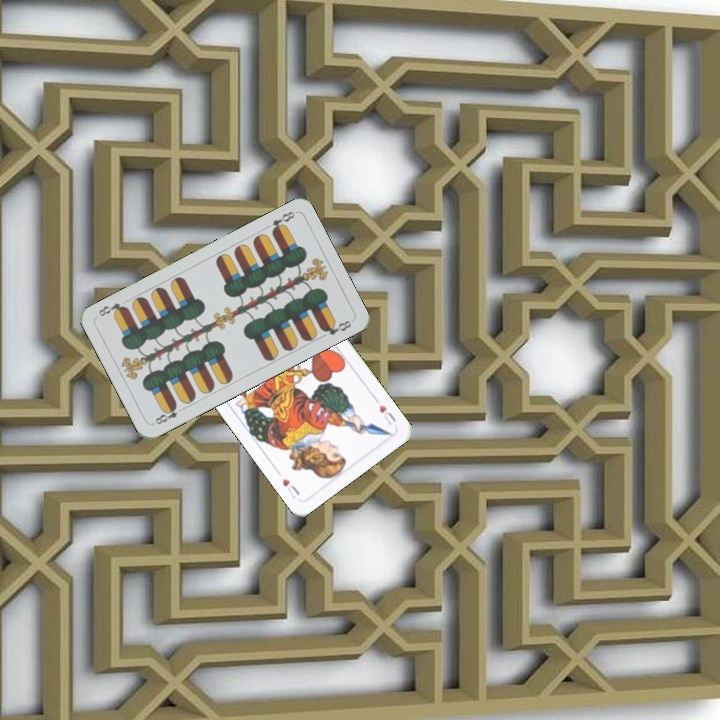E8: (149, 401, 187, 427), (268, 207, 298, 236)
HU: (375, 400, 399, 428)
